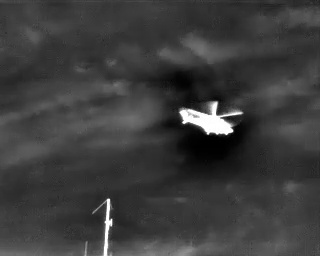HELICOPTER: (177, 94, 248, 141)
